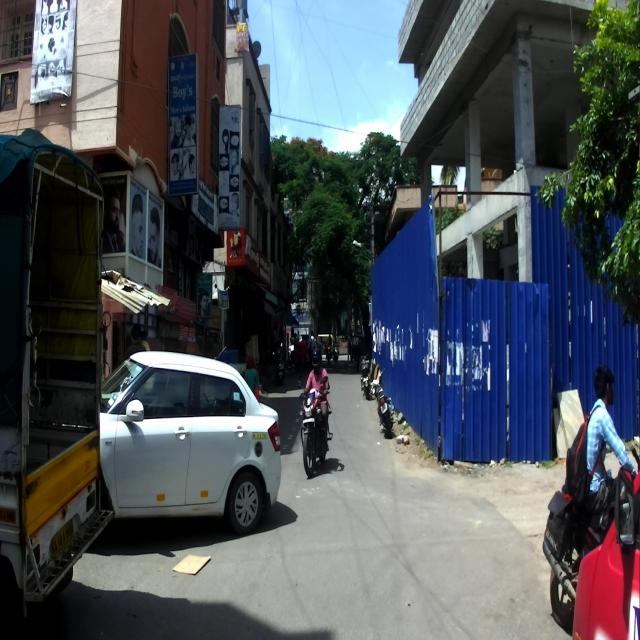Car_Maruti-Suzuki: (99, 344, 282, 535)
motorcycle: (541, 441, 639, 629)
motorcycle_Honda: (296, 377, 332, 479)
truck: (0, 123, 116, 638)
